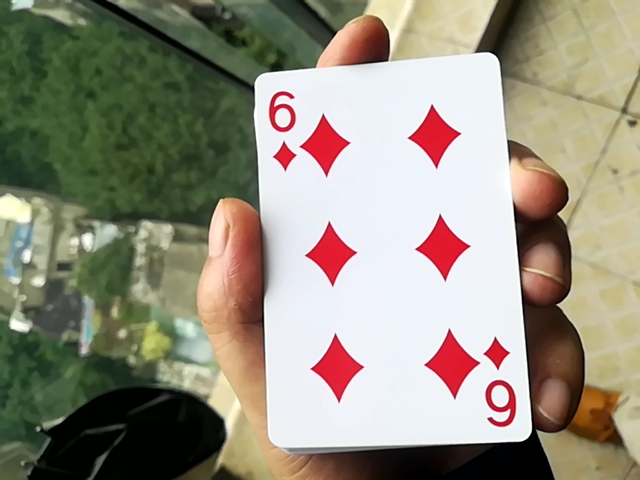fk 6: (236, 50, 542, 450)
